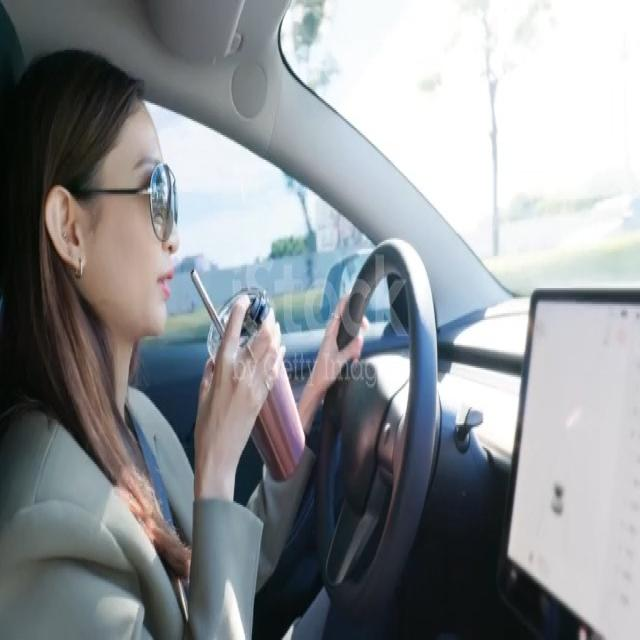Seatbelt: (37, 91, 316, 550)
